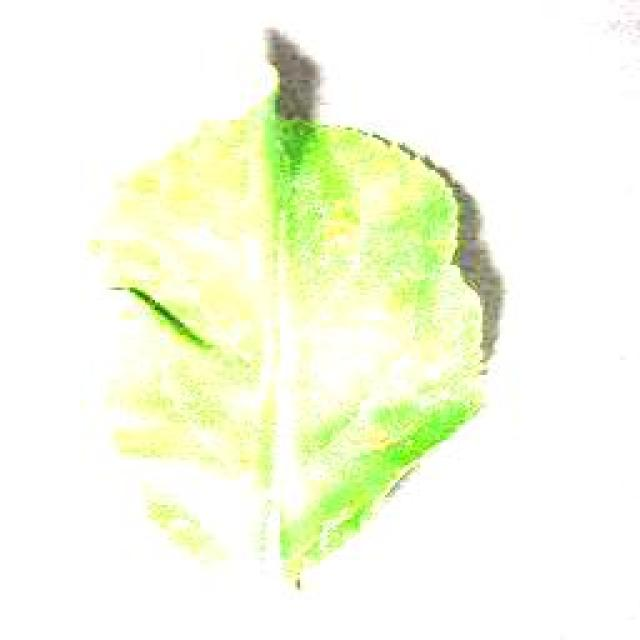apple rust disease: (87, 25, 505, 590)
